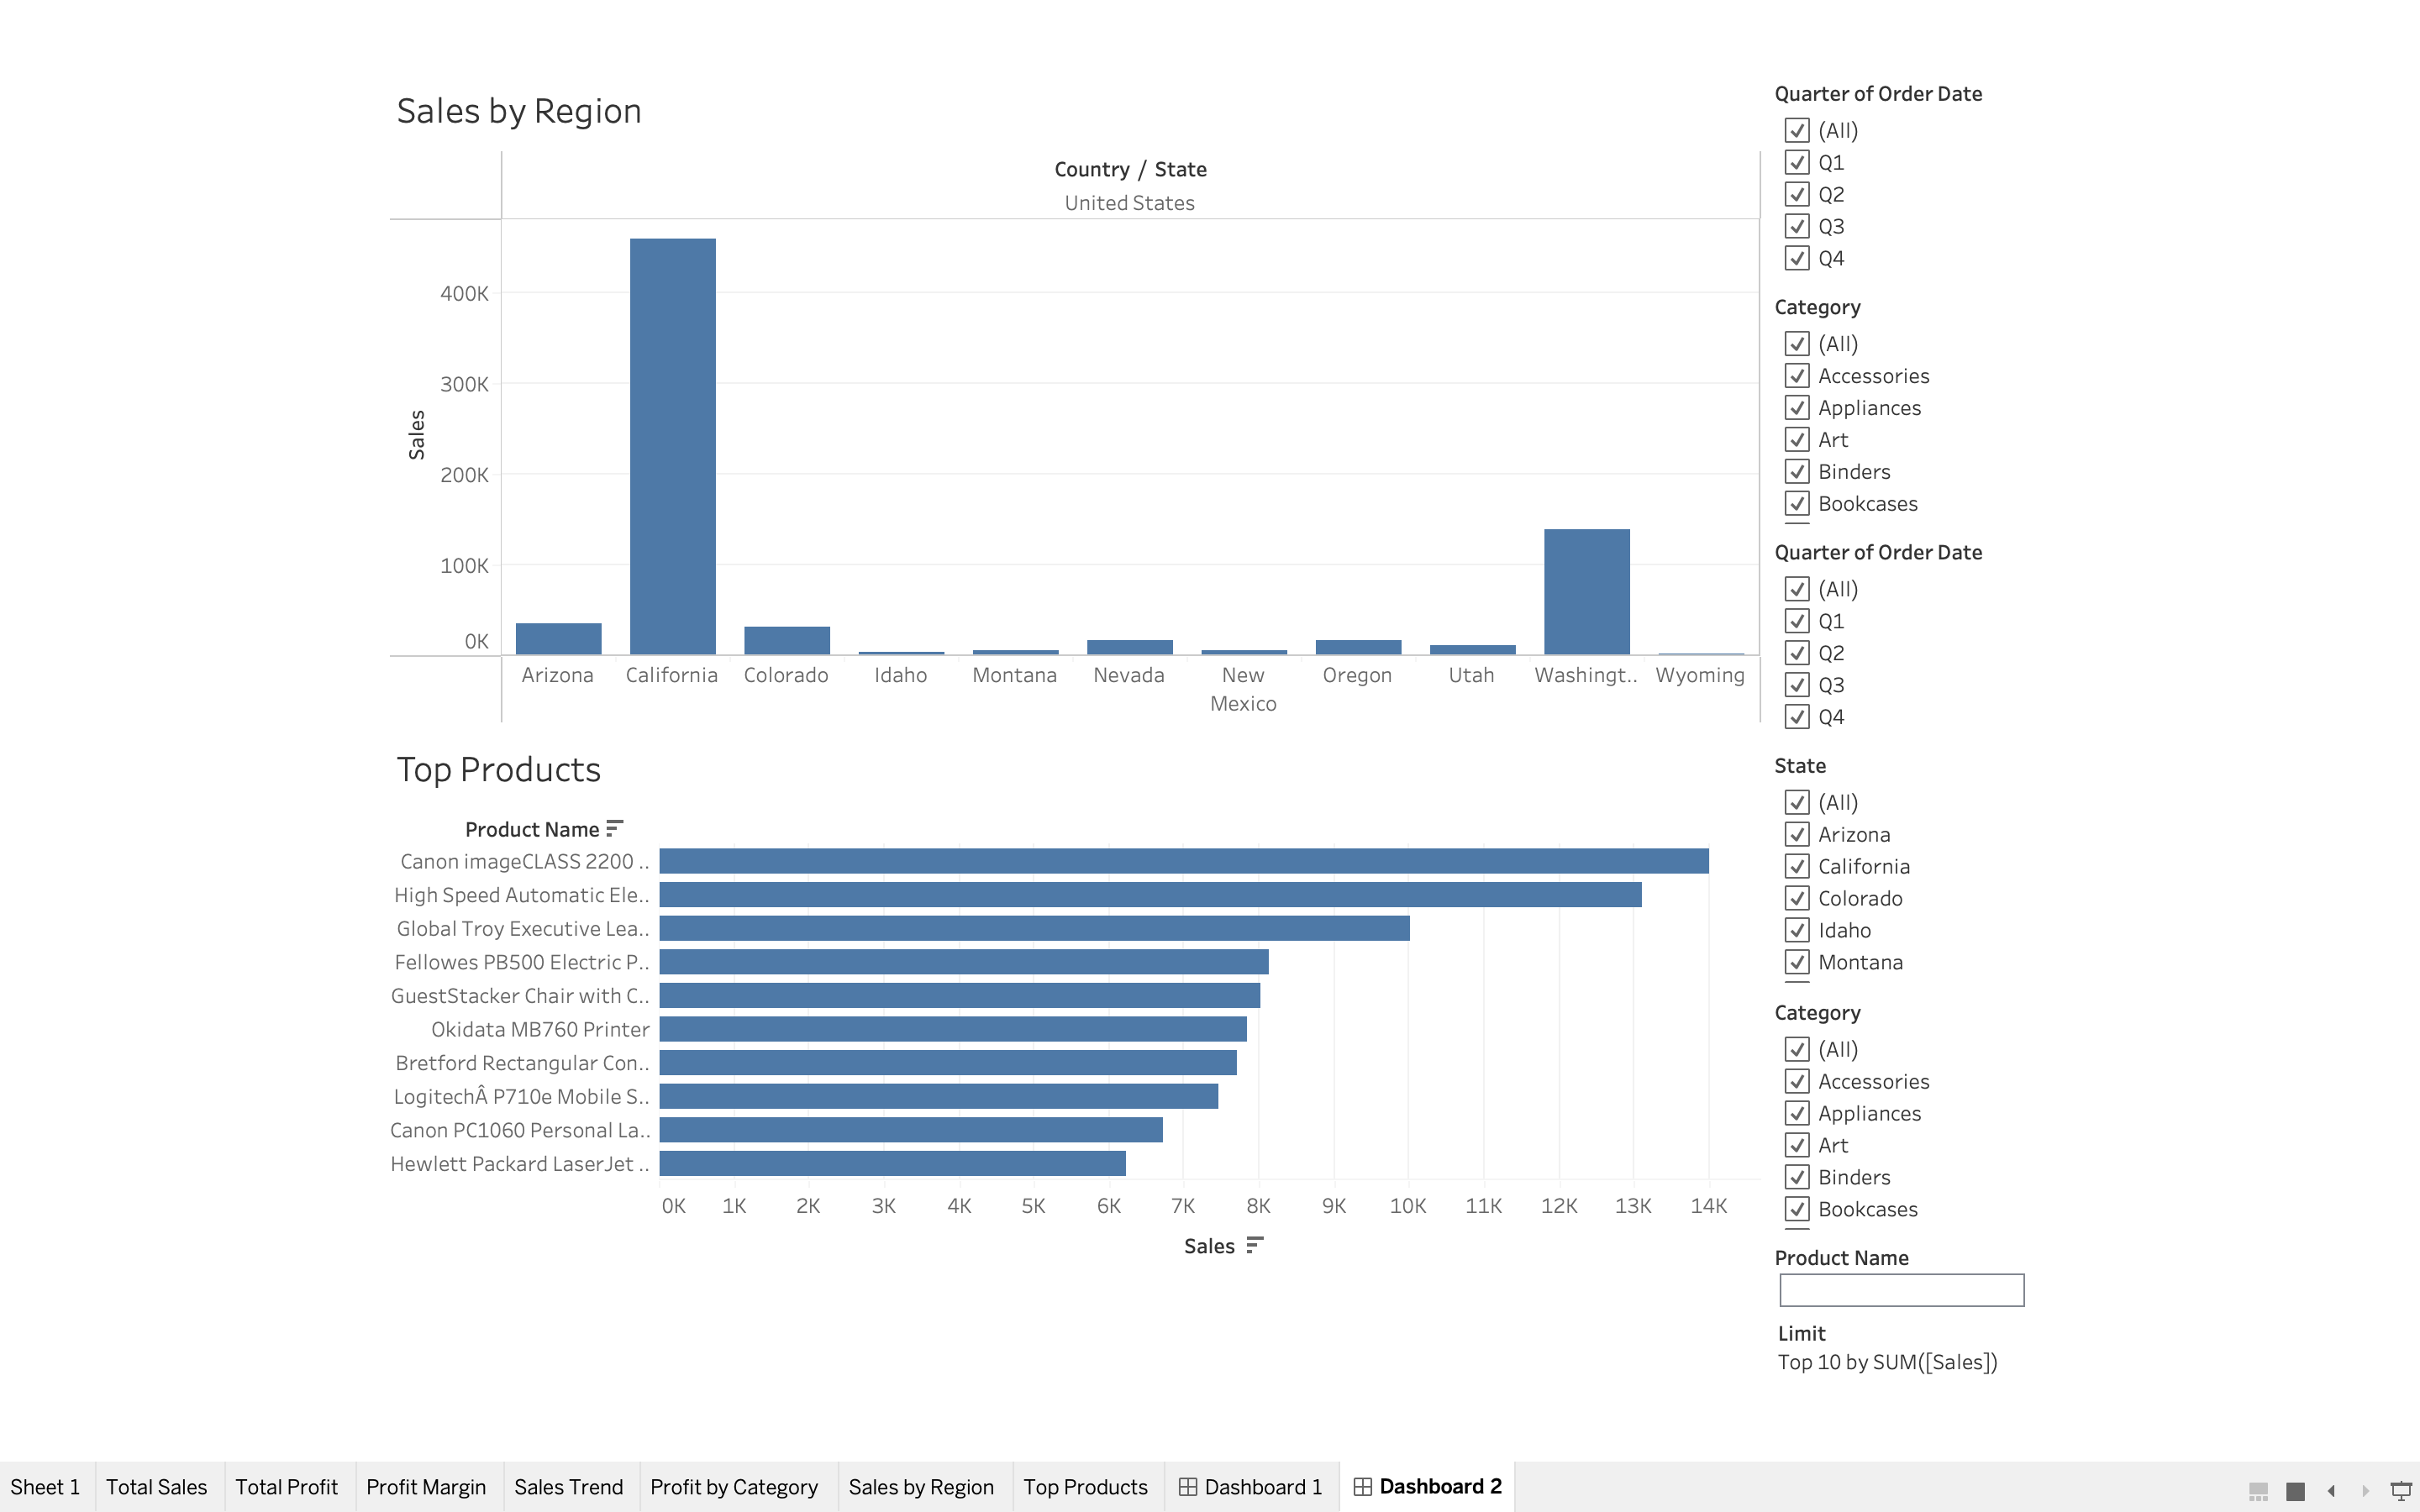

This screenshot's page, from the dashboard's own definition file:
{"tool":"tableau","page":{"name":"Dashboard 2","canvas":[1000,800],"ordinal":1},"visuals":[{"type":"worksheet","title":"Sales by Region","mark":"Automatic","rows":["Sales"],"cols":["Country","State"],"box":[8,8,824,392]},{"type":"filter","title":"Sales by Region","param":"[federated.11ftgvl148c39m1b0iirx012a0sa].[qr:Order Date:ok]","box":[832,8,160,127]},{"type":"filter","title":"Sales by Region","param":"[federated.11ftgvl148c39m1b0iirx012a0sa].[none:Category:nk]","box":[832,135,160,146.3]},{"type":"filter","title":"Top Products","param":"[federated.11ftgvl148c39m1b0iirx012a0sa].[qr:Order Date:ok]","box":[832,281.3,160,127]},{"type":"worksheet","title":"Top Products","mark":"Automatic","rows":["Product Name"],"cols":["Sales"],"box":[8,400,824,392]},{"type":"filter","title":"Top Products","param":"[federated.11ftgvl148c39m1b0iirx012a0sa].[none:State:nk]","box":[832,408.3,160,146.3]},{"type":"filter","title":"Top Products","param":"[federated.11ftgvl148c39m1b0iirx012a0sa].[none:Category:nk]","box":[832,554.7,160,146.3]},{"type":"filter","title":"Top Products","param":"[federated.11ftgvl148c39m1b0iirx012a0sa].[none:Product Name:nk]","box":[832,701,160,91]}]}

Visuals, with their boxes on the page's 1000x800 design canvas (x1, y1, x2, y2). These are canvas units, not pixel positions in the 2420x1512 screenshot, which may show the page scaled, cropped or inside an application window:
"Sales by Region" worksheet: rect(8, 8, 832, 400)
"Sales by Region" filter: rect(832, 8, 992, 135)
"Sales by Region" filter: rect(832, 135, 992, 281)
"Top Products" filter: rect(832, 281, 992, 408)
"Top Products" worksheet: rect(8, 400, 832, 792)
"Top Products" filter: rect(832, 408, 992, 555)
"Top Products" filter: rect(832, 555, 992, 701)
"Top Products" filter: rect(832, 701, 992, 792)
